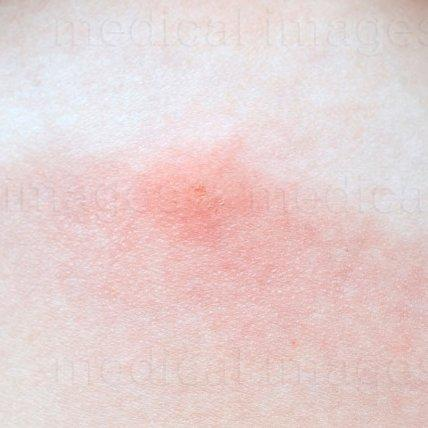Mosquito: (133, 148, 260, 238)
